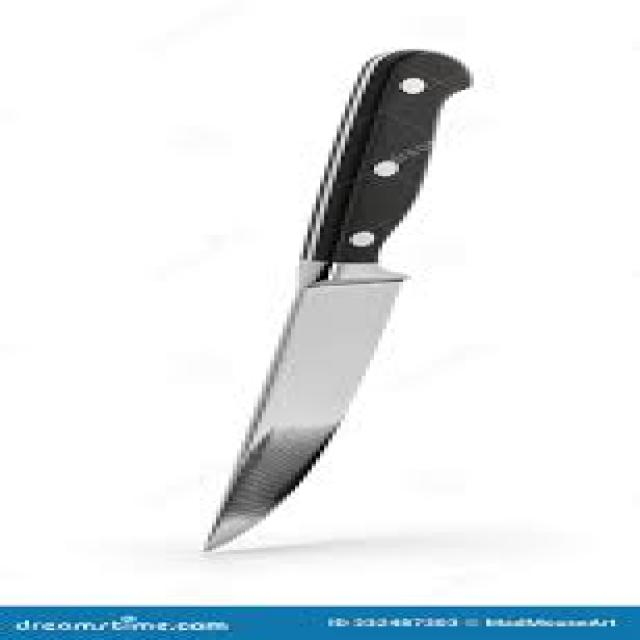Knife: (200, 47, 470, 552)
